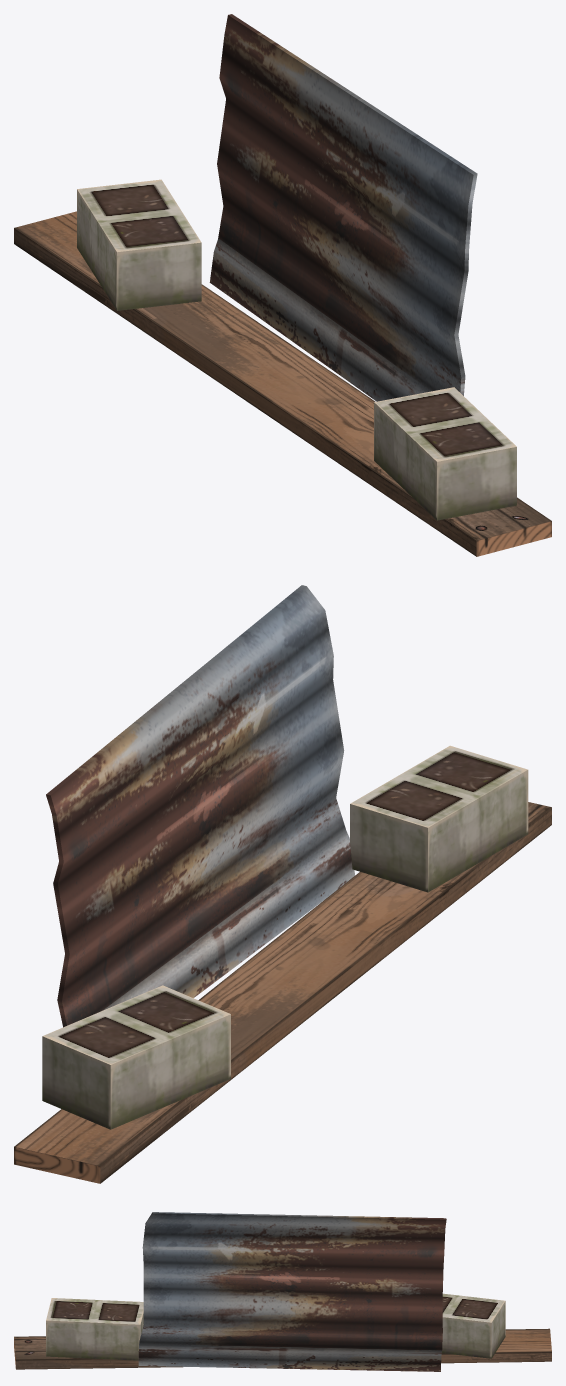
File: raisedBed_dressing03.fbx
3 views of the same model, one above another, from view 1: azimuth 30°, elevation 25°; view 2: azimuth 150°, elevation 25°; view 3: azimuth 270°, elevation 25° (orthographic). The views are drawn at different scales.
Visible parts, largest first — view 1: raisedBed_dressing03; view 2: raisedBed_dressing03; view 3: raisedBed_dressing03.
Boxes of the visible parts, bbox=[...] form: raisedBed_dressing03: bbox=[14, 14, 551, 556]; raisedBed_dressing03: bbox=[14, 585, 551, 1183]; raisedBed_dressing03: bbox=[14, 1212, 551, 1371].
Bounding box in the file's own units: 48.2 × 84.74 × 247.
